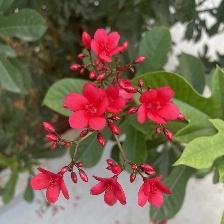jatropha: (65, 84, 112, 134), (137, 87, 182, 129), (31, 163, 73, 207), (89, 172, 130, 210), (136, 173, 174, 211), (91, 27, 129, 64)
